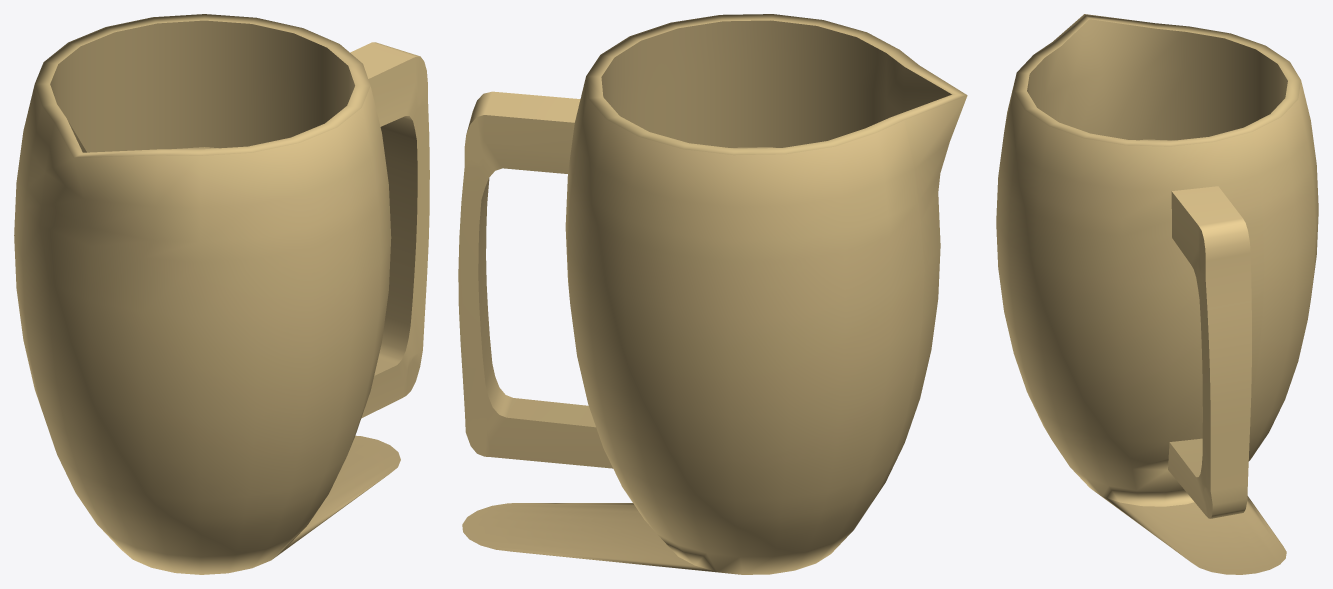
The model's file is pot_a_lait.fbx.
The picture shows the model from 3 angles, left to right: view 1: azimuth 30°, elevation 25°; view 2: azimuth 150°, elevation 25°; view 3: azimuth 270°, elevation 25°; orthographic projection. The views are drawn at different scales.
Parts seen in each view (by area): view 1: pasted__pSphere1; view 2: pasted__pSphere1; view 3: pasted__pSphere1.
Part boxes in pixels (x1,y1,x2,y2): pasted__pSphere1: (14, 14, 429, 574); pasted__pSphere1: (458, 14, 967, 574); pasted__pSphere1: (996, 14, 1318, 574).
Size of the model in its own units: 37.51 by 37.9 by 28.42.
